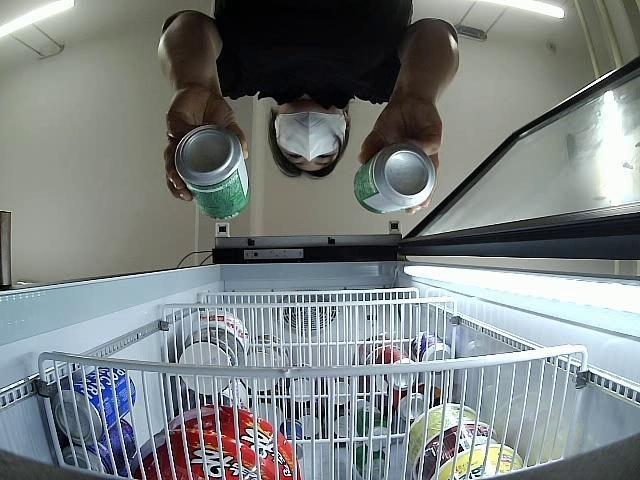12_chilsungCider: (175, 126, 252, 221), (352, 144, 435, 214)
